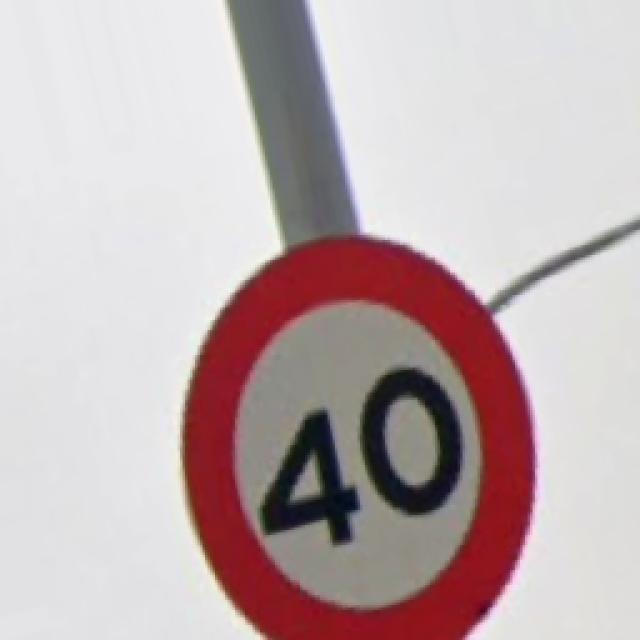Speed Limit -40-: (182, 238, 532, 638)
